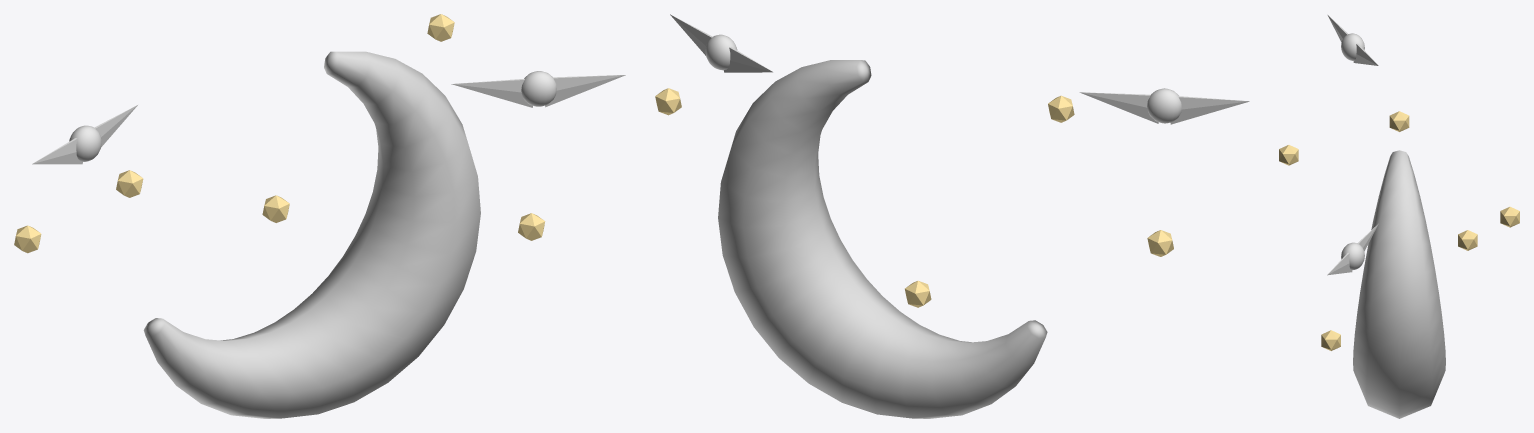
Rendered from CrescentMoon.glb.
3 views of the same model, side by side, from view 1: azimuth 30°, elevation 25°; view 2: azimuth 150°, elevation 25°; view 3: azimuth 270°, elevation 25° (orthographic). The views are drawn at different scales.
Visible parts, largest first — view 1: MoonhatOrange, Crow, Glow; view 2: MoonhatOrange, Crow, Glow; view 3: MoonhatOrange, Crow, Glow.
Boxes of the visible parts, <box> form: MoonhatOrange: <box>143,51,480,418</box>; Crow: <box>32,71,625,164</box>; Glow: <box>14,14,545,253</box>; MoonhatOrange: <box>718,60,1047,418</box>; Crow: <box>670,14,1249,124</box>; Glow: <box>655,88,1173,307</box>; MoonhatOrange: <box>1353,150,1445,418</box>; Crow: <box>1327,15,1378,275</box>; Glow: <box>1279,111,1519,350</box>.
Size of the model in its own units: 2.23 by 1.33 by 1.04.
